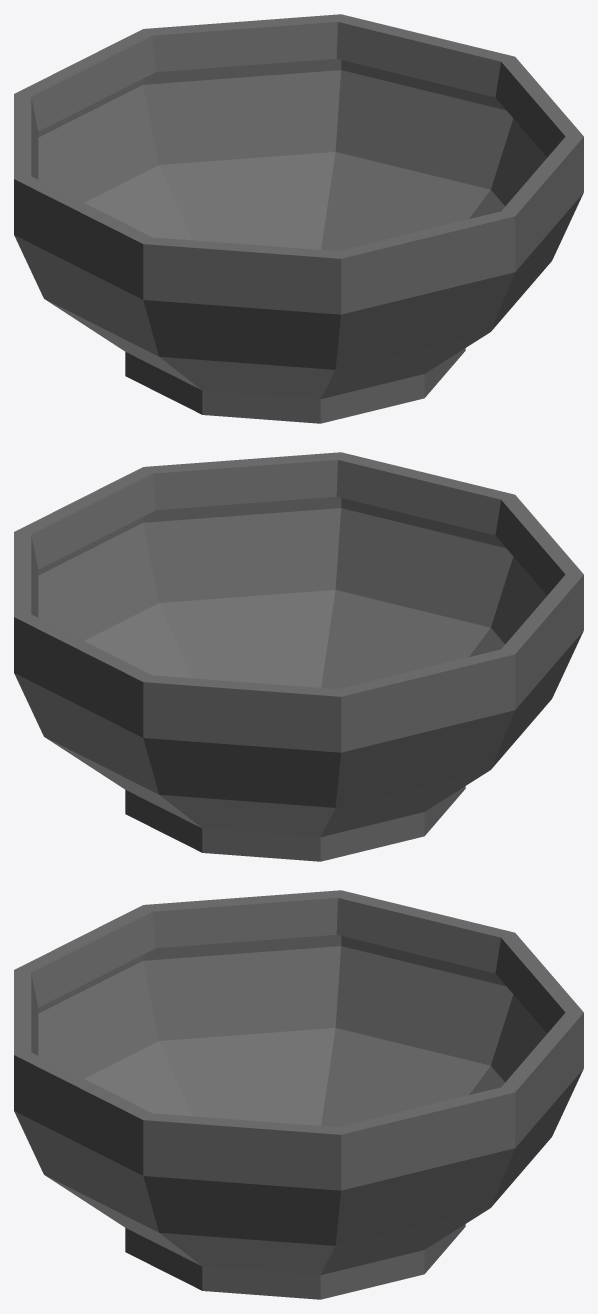
File: PlateForSoup.fbx
3 renders of one model, top to bottom at view 1: azimuth 30°, elevation 25°; view 2: azimuth 150°, elevation 25°; view 3: azimuth 270°, elevation 25°, orthographic.
Visible parts, largest first — view 1: Cylinder; view 2: Cylinder; view 3: Cylinder.
Boxes of the visible parts, x1,y1,x2,y2 form: Cylinder: (14, 14, 583, 423); Cylinder: (14, 452, 583, 861); Cylinder: (14, 890, 583, 1299).
Size of the model in its own units: 273 by 111 by 269.
Materials: 1 (1 with a texture image).
